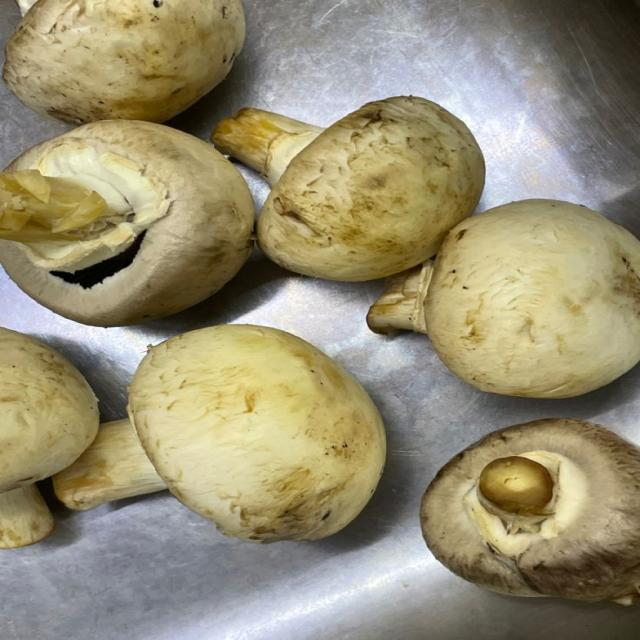champignon mushrooms: (54, 325, 385, 542), (368, 200, 639, 397), (0, 121, 254, 326), (213, 97, 484, 281), (421, 419, 639, 604), (3, 0, 244, 124), (0, 328, 98, 548), (54, 419, 166, 510)
